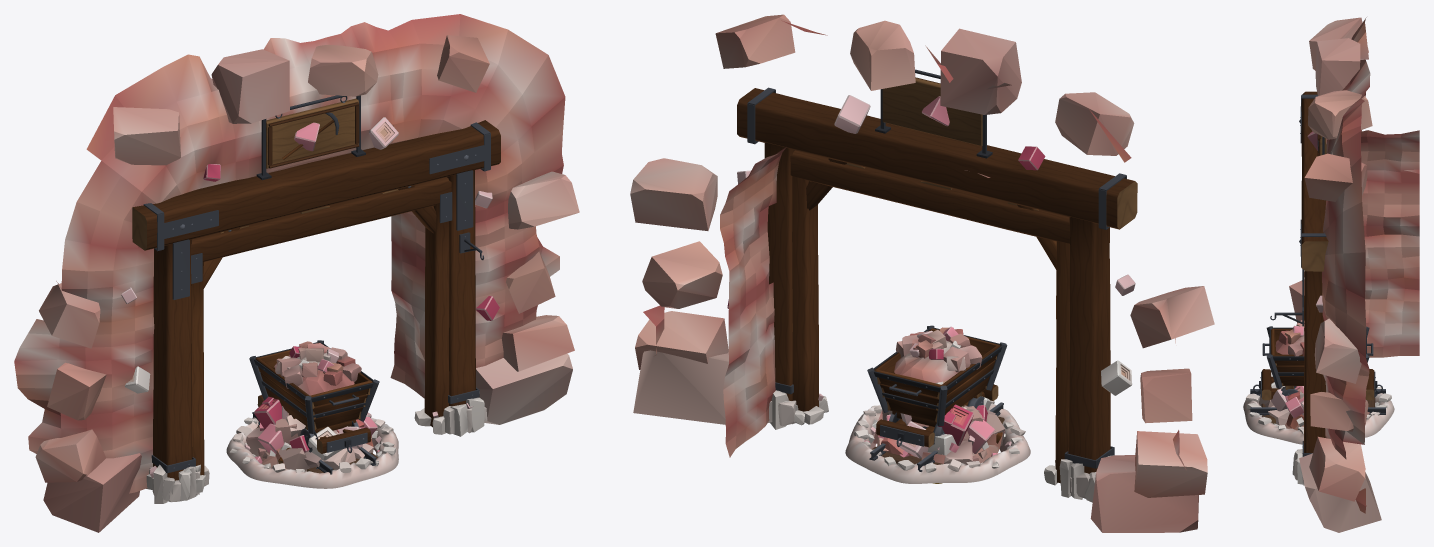
The model's file is salt-mine-kit.glb.
3 views of the same model, side by side, from view 1: azimuth 30°, elevation 25°; view 2: azimuth 150°, elevation 25°; view 3: azimuth 270°, elevation 25° (orthographic). The views are drawn at different scales.
Parts seen in each view (by area): view 1: MinePortal, TimberSet, MineCart, BrineRim, SaltCluster, RubblePile; view 2: MinePortal, TimberSet, MineCart, BrineRim, SaltCluster, RubblePile, RailStraight; view 3: MinePortal, MineCart, BrineRim, SaltCluster, RailStraight, RubblePile.
Boxes of the visible parts, x1,y1,x2,y2 form: MinePortal: [14, 14, 579, 532]; TimberSet: [191, 177, 452, 492]; MineCart: [249, 340, 379, 453]; BrineRim: [226, 417, 398, 488]; SaltCluster: [246, 394, 377, 468]; RubblePile: [258, 415, 373, 471]; MinePortal: [630, 14, 1214, 532]; TimberSet: [783, 150, 1071, 492]; MineCart: [867, 325, 1007, 447]; BrineRim: [845, 401, 1030, 483]; SaltCluster: [873, 380, 1002, 464]; RubblePile: [877, 405, 1004, 463]; RailStraight: [869, 402, 1004, 471]; MinePortal: [1270, 17, 1419, 532]; MineCart: [1253, 320, 1382, 400]; BrineRim: [1243, 387, 1394, 444]; SaltCluster: [1264, 382, 1369, 430]; RailStraight: [1250, 389, 1385, 423]; RubblePile: [1259, 386, 1303, 425].
Bounding box in the file's own units: 8.16 × 6.16 × 2.61.
6 materials, 1 textured.
